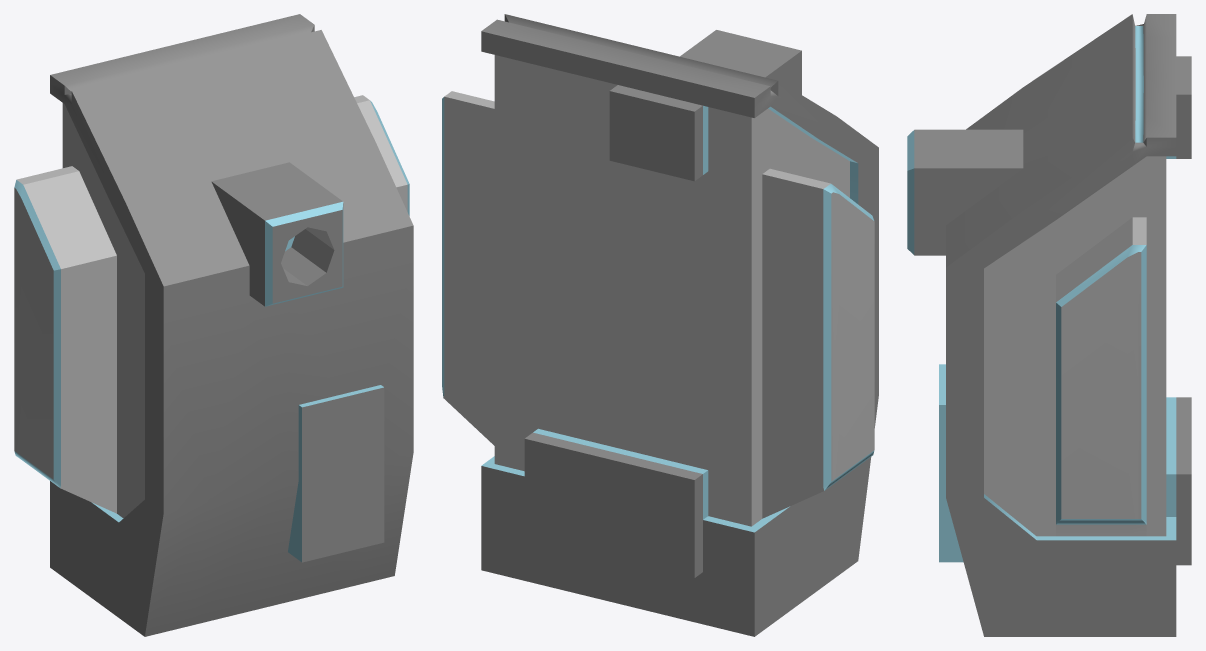
Rendered from ammeter_main.fbx.
3 views of the same model, side by side, from view 1: azimuth 30°, elevation 25°; view 2: azimuth 150°, elevation 25°; view 3: azimuth 270°, elevation 25° (orthographic). The views are drawn at different scales.
Visible parts, largest first — view 1: pCube1, pCube2; view 2: pCube1; view 3: pCube1, pCube2.
Part boxes in pixels (x1,y1,x2,y2): pCube1: [14, 14, 413, 636]; pCube2: [288, 385, 384, 562]; pCube1: [442, 14, 878, 636]; pCube1: [907, 14, 1191, 636]; pCube2: [939, 364, 963, 562].
Bounding box in the file's own units: 1.01 × 1.33 × 0.6884.
